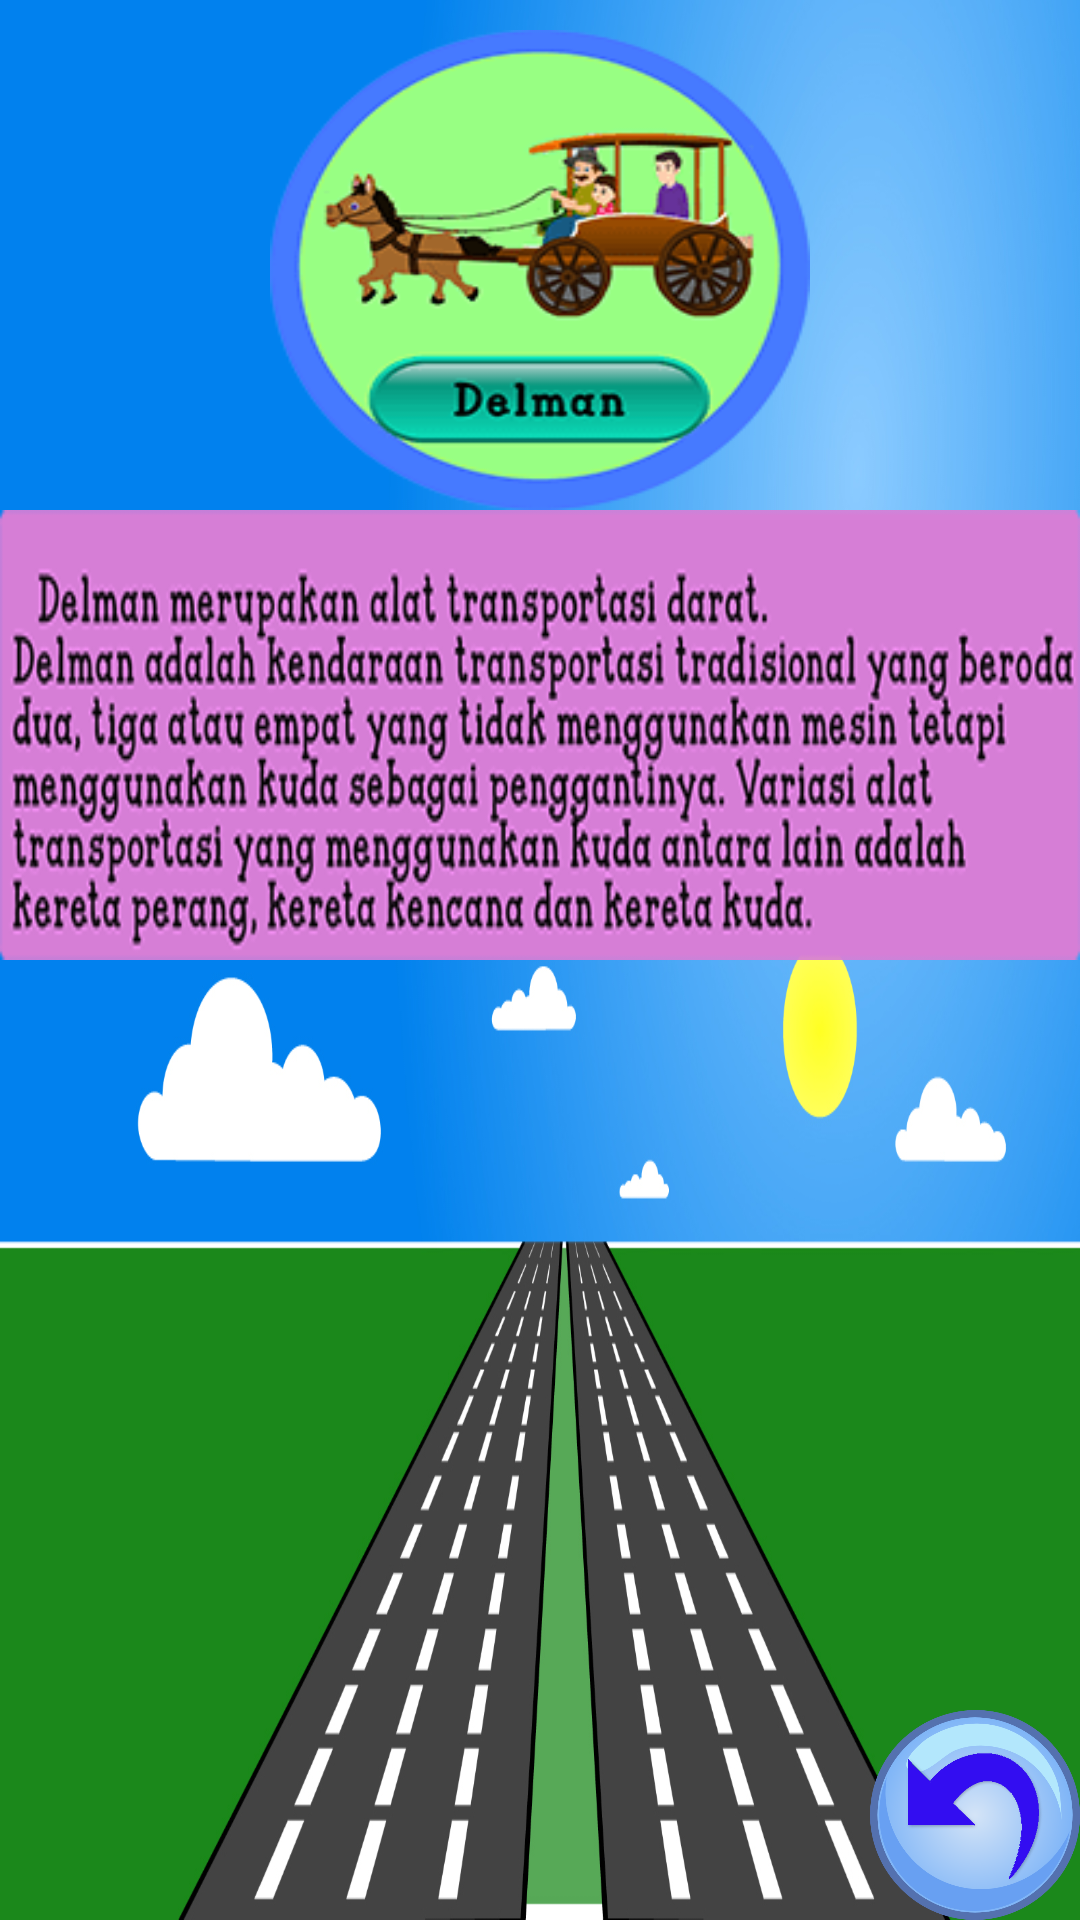

Where icons sit on this 1080×1920 app screen, as [x1=x1, y1=y1, x2=x2, y2=y2]:
back: [x1=870, y1=1710, x2=1080, y2=1920]
